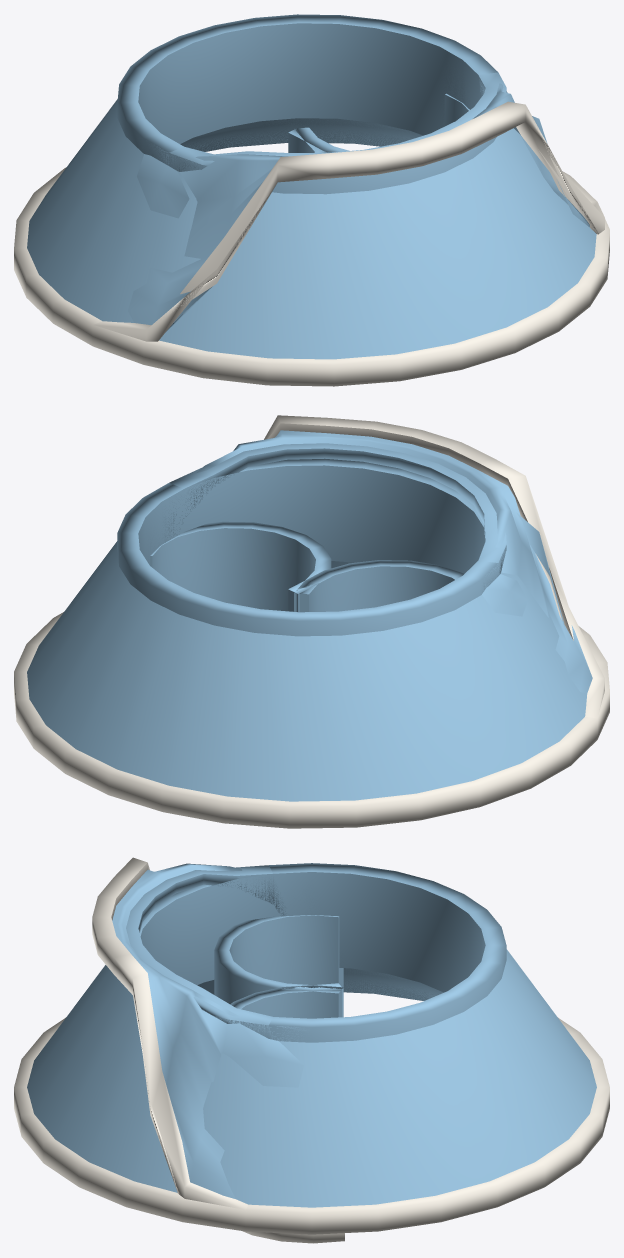
Rendered from apron_skirt.glb.
The picture shows the model from 3 angles, top to bottom: view 1: azimuth 30°, elevation 25°; view 2: azimuth 150°, elevation 25°; view 3: azimuth 270°, elevation 25°; orthographic projection.
Parts seen in each view (by area): view 1: apron_skirt_Body, apron_skirt_Body_sit, apron_skirt_LegR_sit; view 2: apron_skirt_Body, apron_skirt_Body_sit, apron_skirt_LegR_sit, apron_skirt_LegL_sit; view 3: apron_skirt_Body, apron_skirt_Body_sit, apron_skirt_LegL_sit, apron_skirt_LegR_sit.
Part boxes in pixels (left/top/right/bottom): apron_skirt_Body: left=14, top=14, right=609, bottom=386; apron_skirt_Body_sit: left=93, top=48, right=604, bottom=341; apron_skirt_LegR_sit: left=294, top=93, right=469, bottom=152; apron_skirt_Body: left=14, top=458, right=609, bottom=828; apron_skirt_Body_sit: left=145, top=415, right=604, bottom=718; apron_skirt_LegR_sit: left=150, top=521, right=331, bottom=612; apron_skirt_LegL_sit: left=294, top=560, right=463, bottom=612; apron_skirt_Body: left=14, top=863, right=609, bottom=1234; apron_skirt_Body_sit: left=92, top=857, right=443, bottom=1209; apron_skirt_LegL_sit: left=214, top=915, right=343, bottom=1017; apron_skirt_LegR_sit: left=230, top=985, right=344, bottom=1243.
Bounding box in the file's own units: 0.628 × 0.2847 × 0.628.
